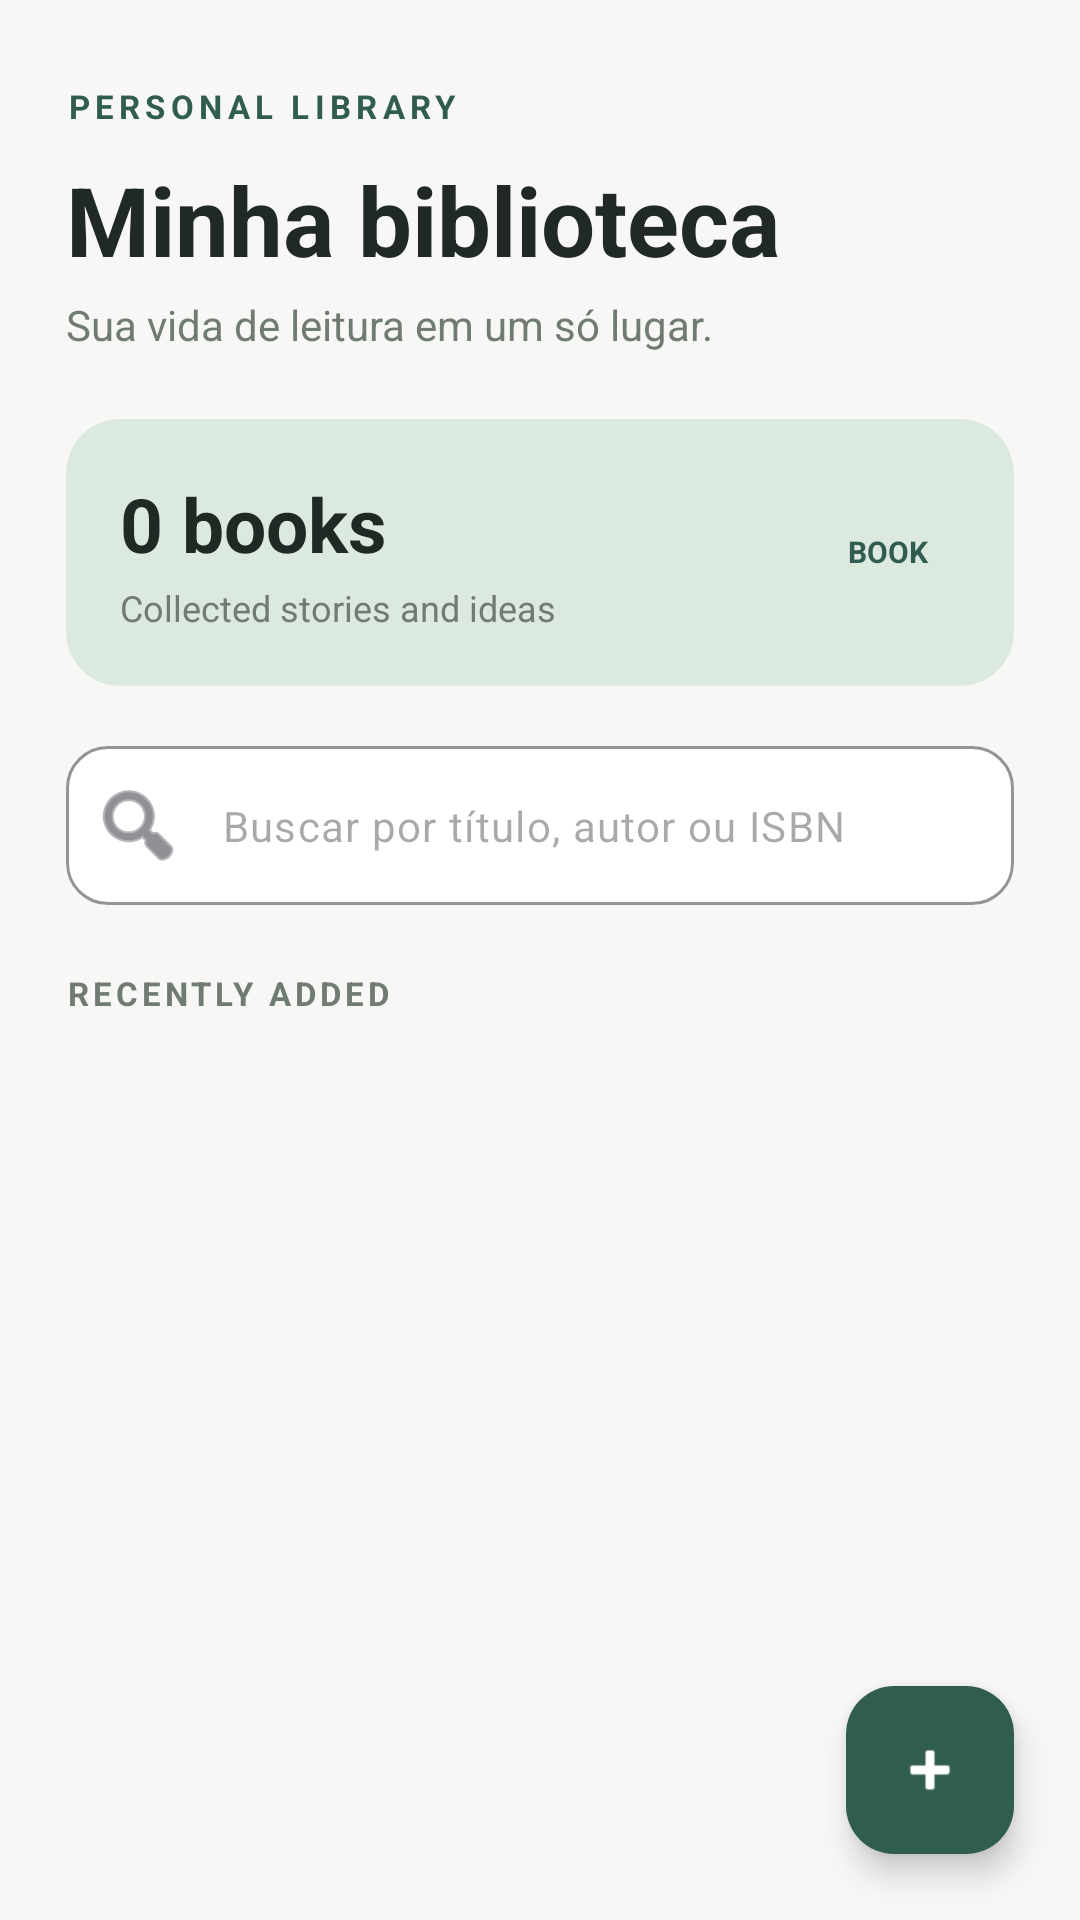

Point at icon controls on the screen. Image size 1080*1920, points as (x,y).
Adicionar livro: (930,1770)
